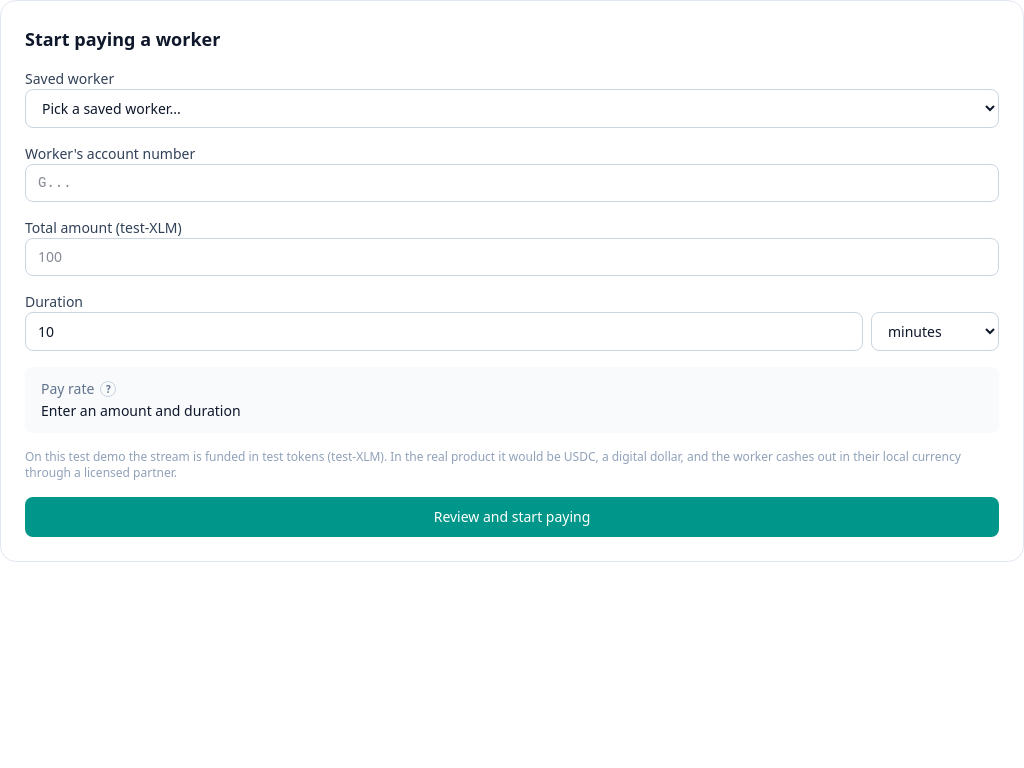
CreateStreamForm › fills the worker field from a saved worker in the picker
Step 1. Select "Maria (GCQG...WKZN)" in the dropdown labelled "Saved worker" → (512, 108), box left=25, top=89, right=999, bottom=128
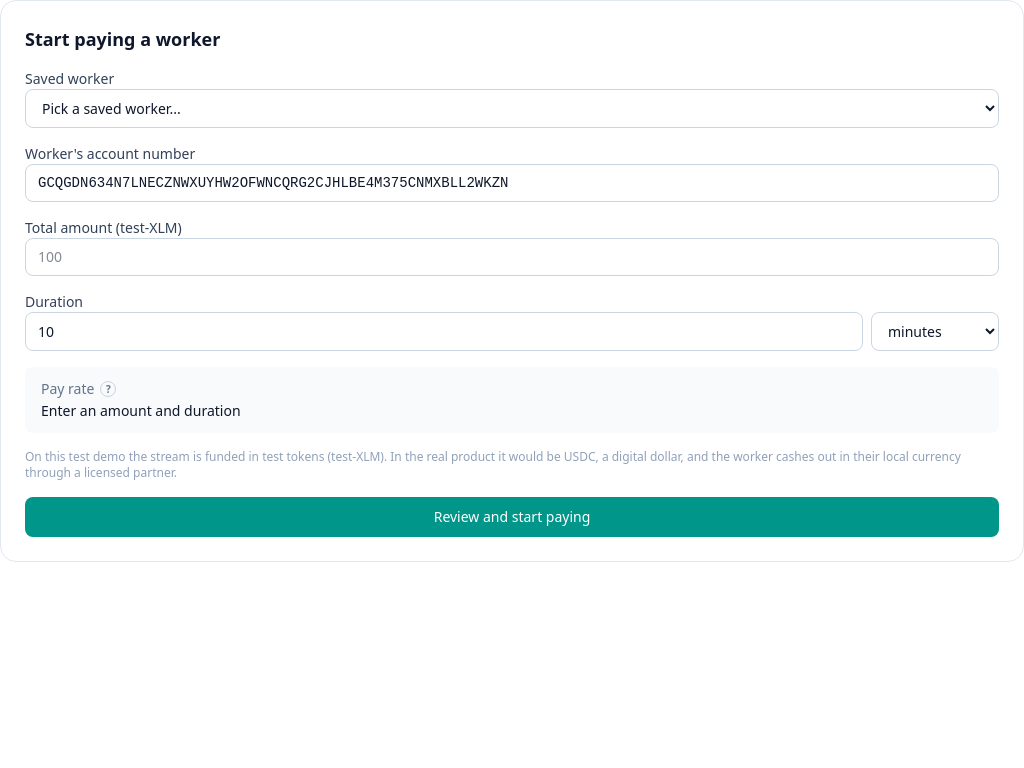
Expected: the field labelled "Worker's account number" holds "GCQGDN634N7LNECZNWXUYHW2OFWNCQRG2CJHLBE4M375CNMXBLL2WKZN", left=25, top=164, right=999, bottom=202
